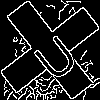U: (25, 25, 82, 84)
